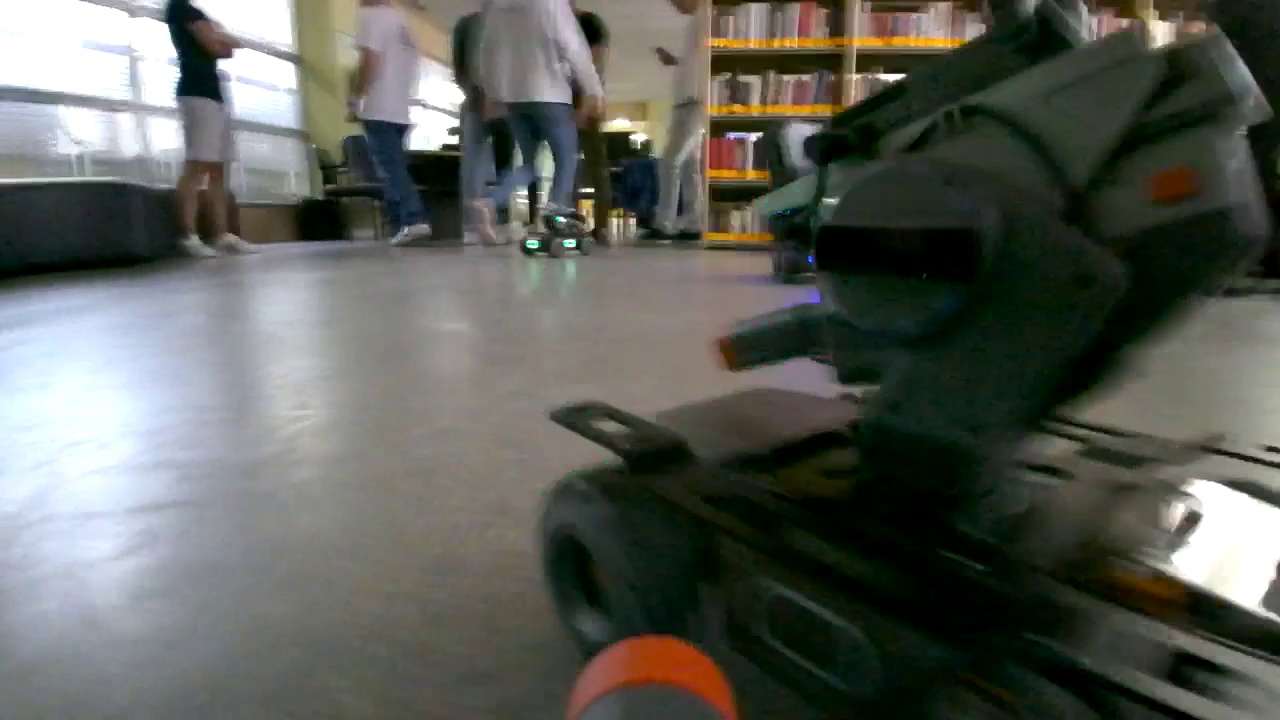robot: (542, 16, 1274, 669), (521, 200, 597, 260)
